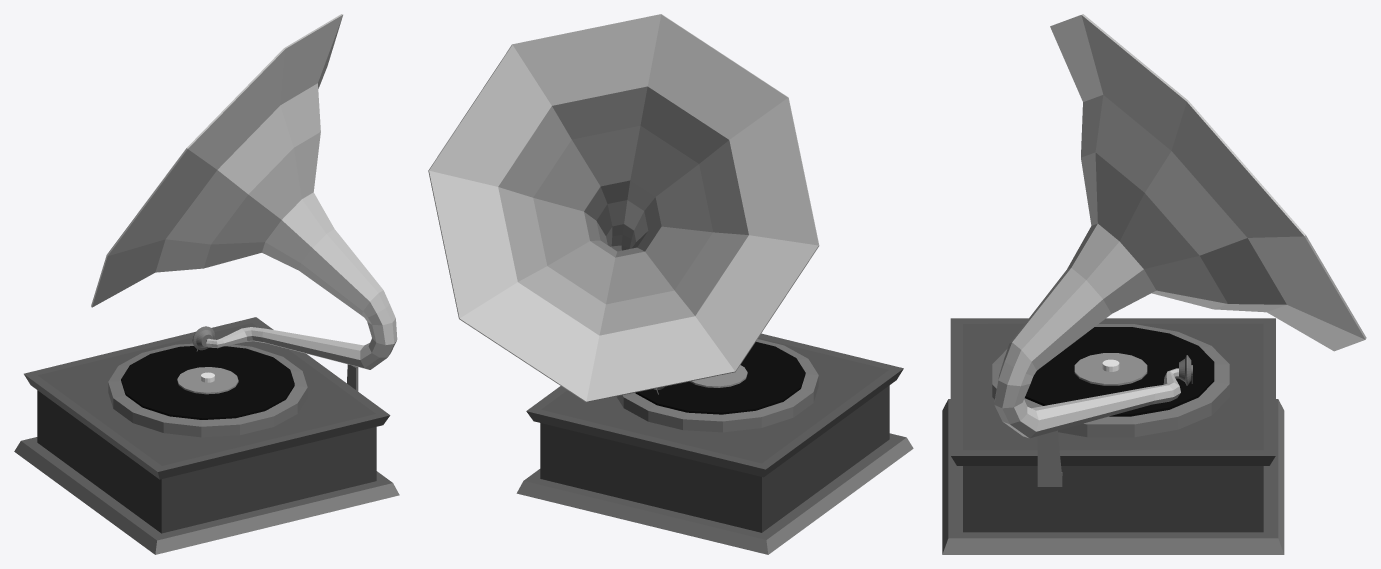
File: GramophoneModel.fbx
3 views of the same model, side by side, from view 1: azimuth 30°, elevation 25°; view 2: azimuth 150°, elevation 25°; view 3: azimuth 270°, elevation 25° (orthographic). The views are drawn at different scales.
Visible parts, largest first — view 1: GramophoneModel; view 2: GramophoneModel; view 3: GramophoneModel.
Part boxes in pixels (left/top/right/bottom): GramophoneModel: left=14, top=14, right=399, bottom=554; GramophoneModel: left=428, top=14, right=913, bottom=554; GramophoneModel: left=942, top=14, right=1366, bottom=554.
Bounding box in the file's own units: 91.32 × 114 × 86.11.
